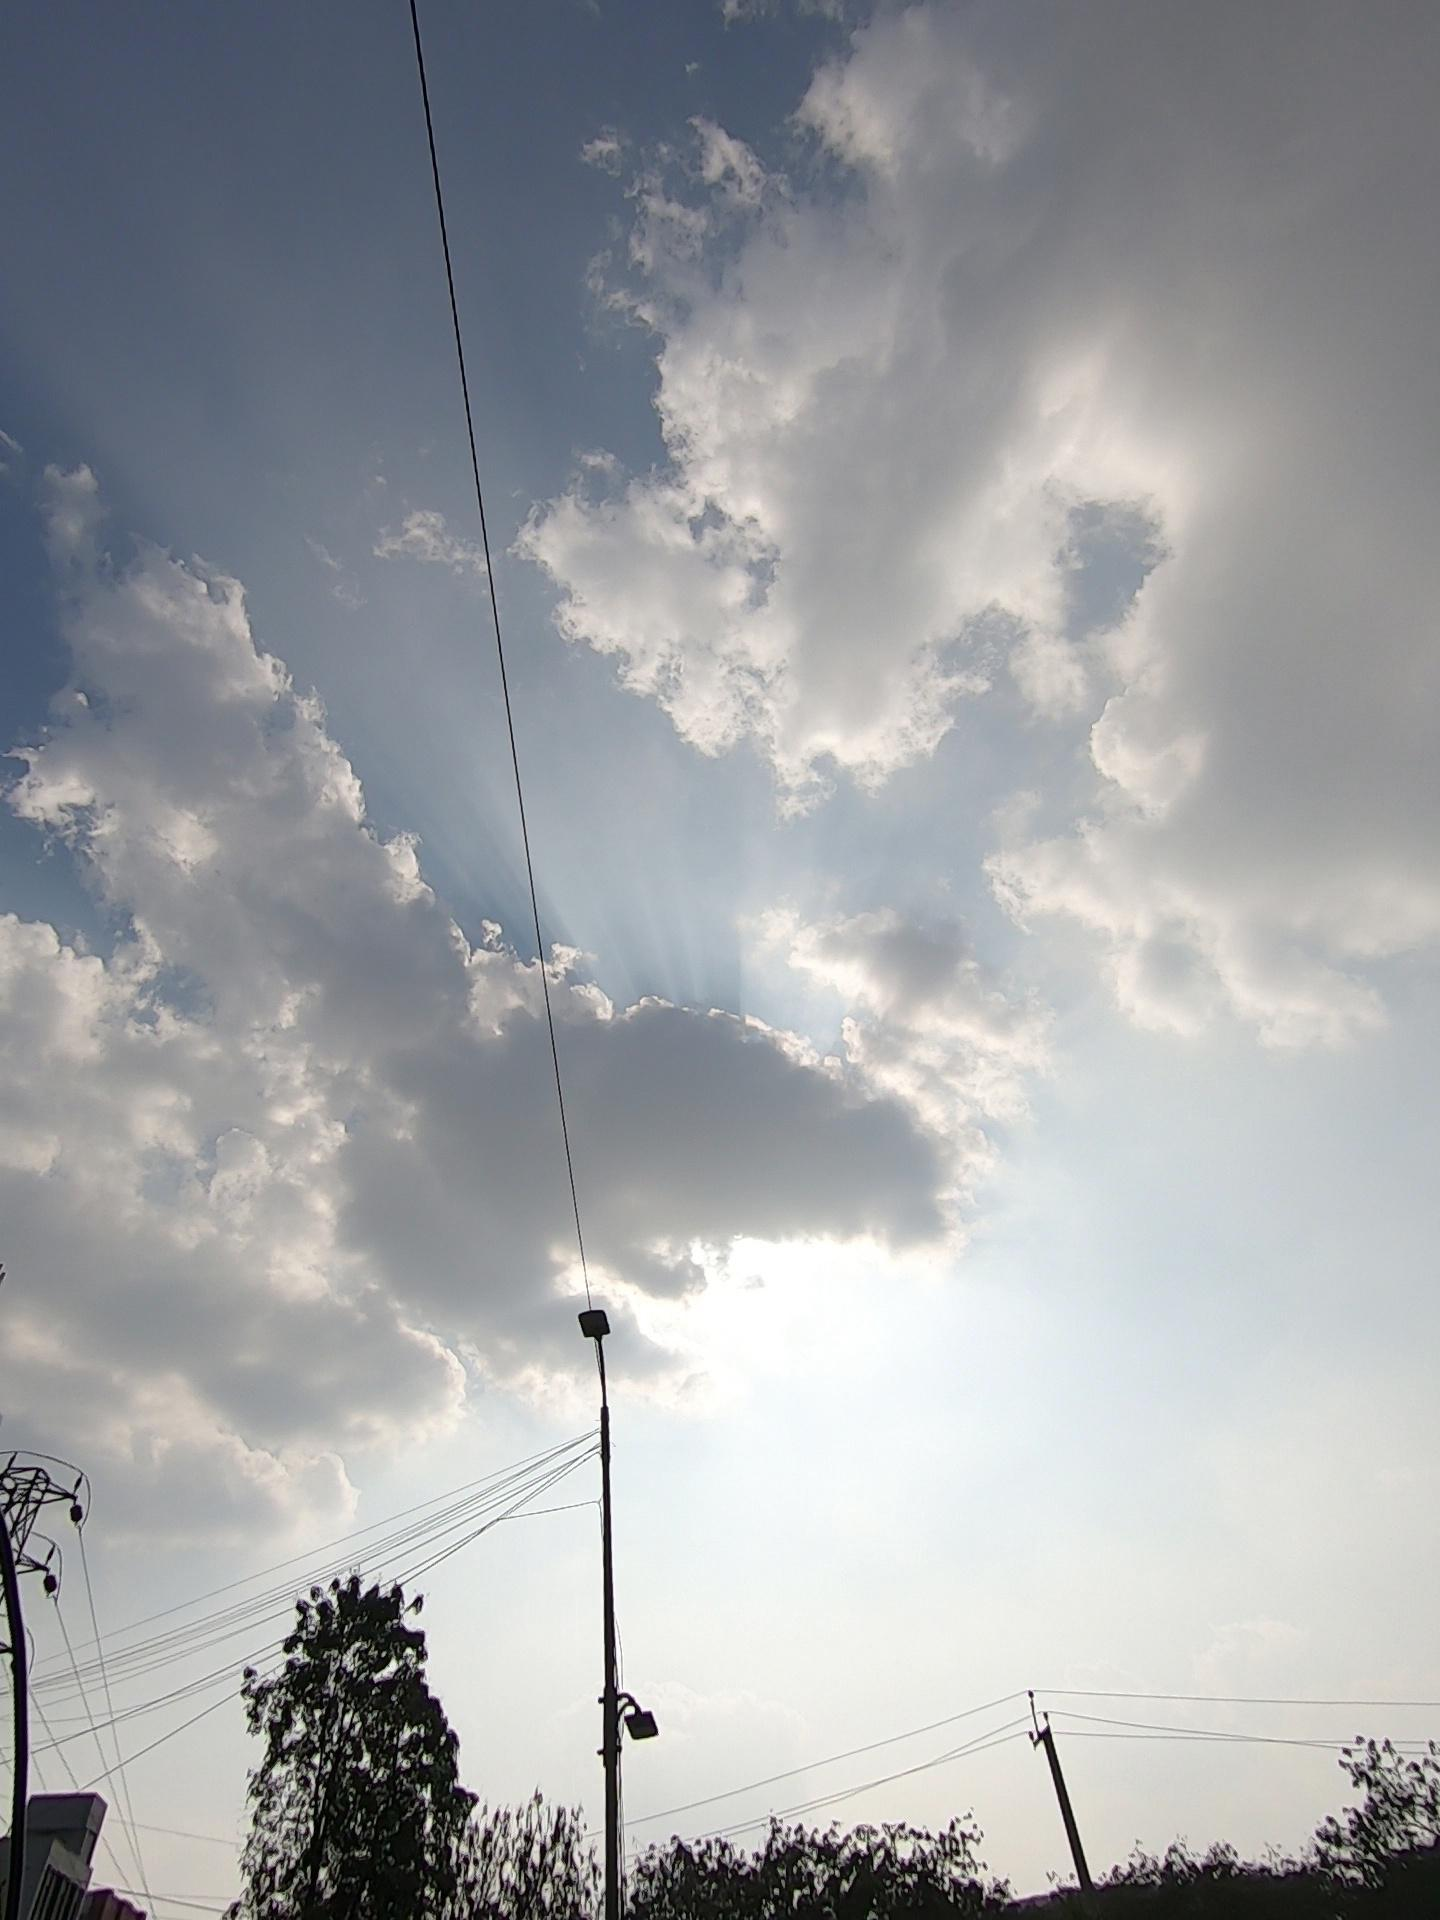off: (501, 1135, 723, 1740)
